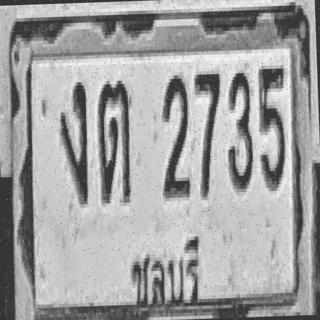A07: (58, 78, 90, 204)
A21: (96, 77, 133, 203)
N02: (159, 72, 191, 198)
N03: (224, 71, 253, 190)
N05: (257, 63, 287, 189)
N07: (193, 70, 224, 196)
P13: (128, 227, 206, 312)
